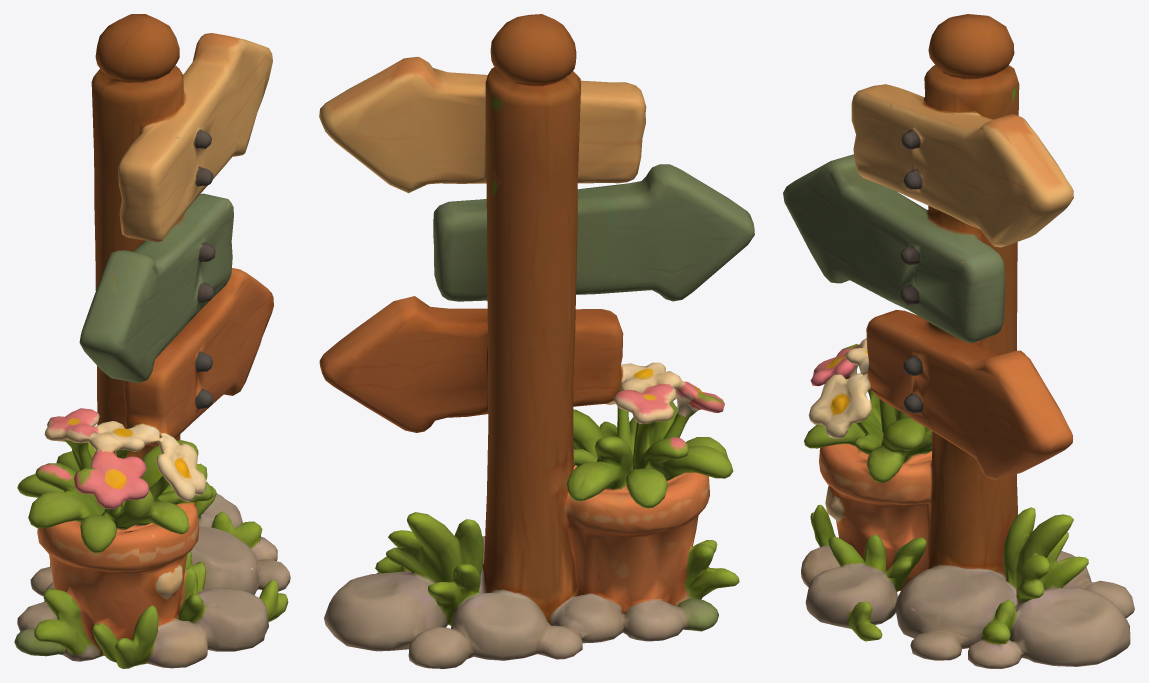
3 renders of one model, left to right at view 1: azimuth 30°, elevation 25°; view 2: azimuth 150°, elevation 25°; view 3: azimuth 270°, elevation 25°, orthographic. The views are drawn at different scales.
Visible parts, largest first — view 1: signpost; view 2: signpost; view 3: signpost.
Part boxes in pixels (x1,y1,x2,y2): signpost: [14, 14, 290, 668]; signpost: [319, 14, 754, 668]; signpost: [783, 14, 1134, 668].
Size of the model in its own units: 1.28 by 2.2 by 1.2.
Materials: 1 (1 with a texture image).
